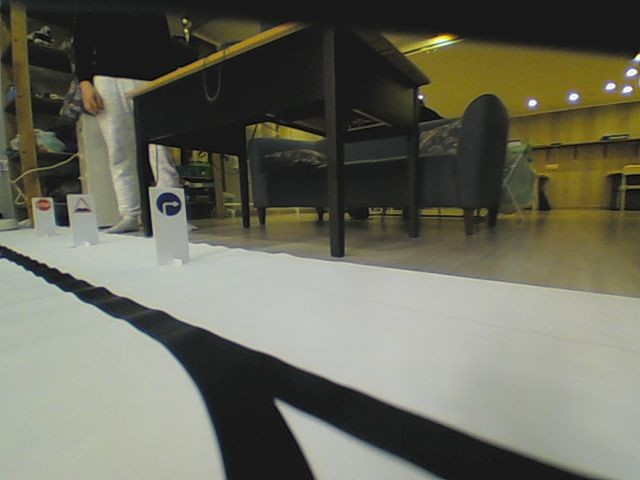Nerov: (73, 195, 90, 212)
Right: (153, 191, 184, 217)
Stop: (35, 198, 52, 212)
